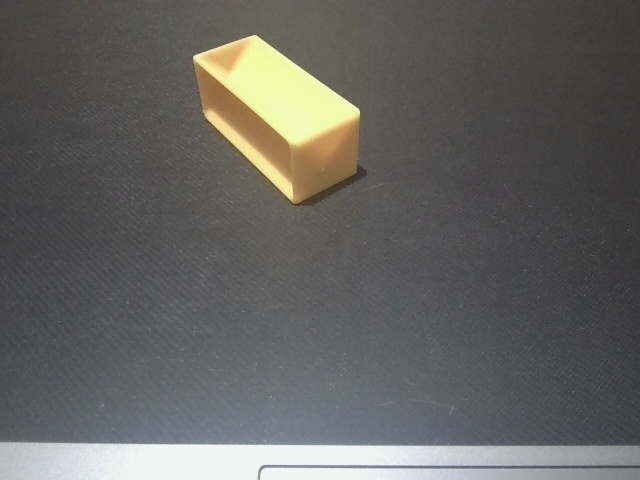YellowSample: (188, 31, 364, 210)
